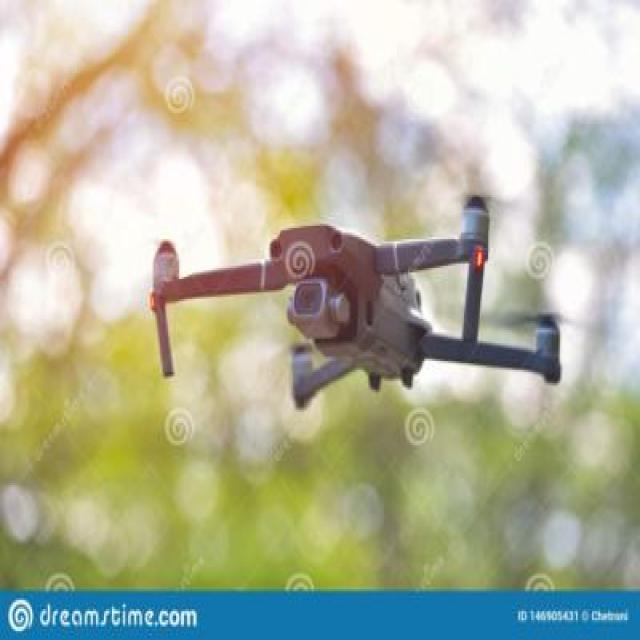drone: (144, 188, 587, 416)
